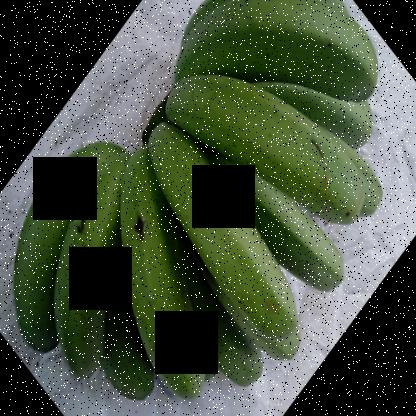freshunripe: (152, 130, 309, 352), (162, 79, 379, 230), (160, 4, 400, 110), (115, 148, 204, 408), (4, 147, 112, 360), (49, 176, 117, 400), (267, 208, 355, 304), (192, 314, 271, 398)
